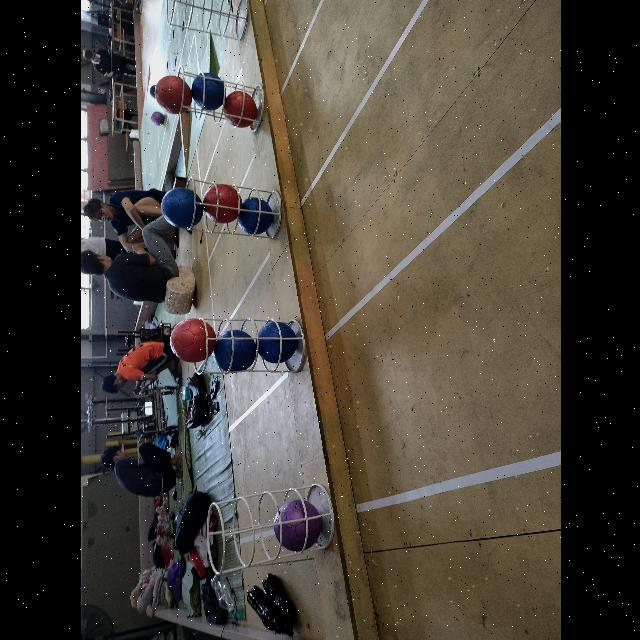B: (212, 330, 256, 372), (160, 188, 203, 228), (255, 322, 297, 362), (237, 196, 273, 234), (191, 74, 225, 110)
R: (169, 318, 215, 362), (202, 184, 240, 224), (154, 76, 190, 114), (222, 91, 256, 127)
